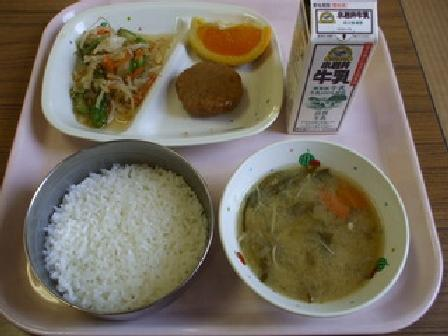Citrus: (180, 7, 270, 63)
Milk: (272, 0, 395, 140)
Rice: (41, 149, 207, 302)
Salad: (58, 25, 157, 128)
cutlet: (164, 54, 253, 124)
vegetable soup: (232, 155, 398, 302)
